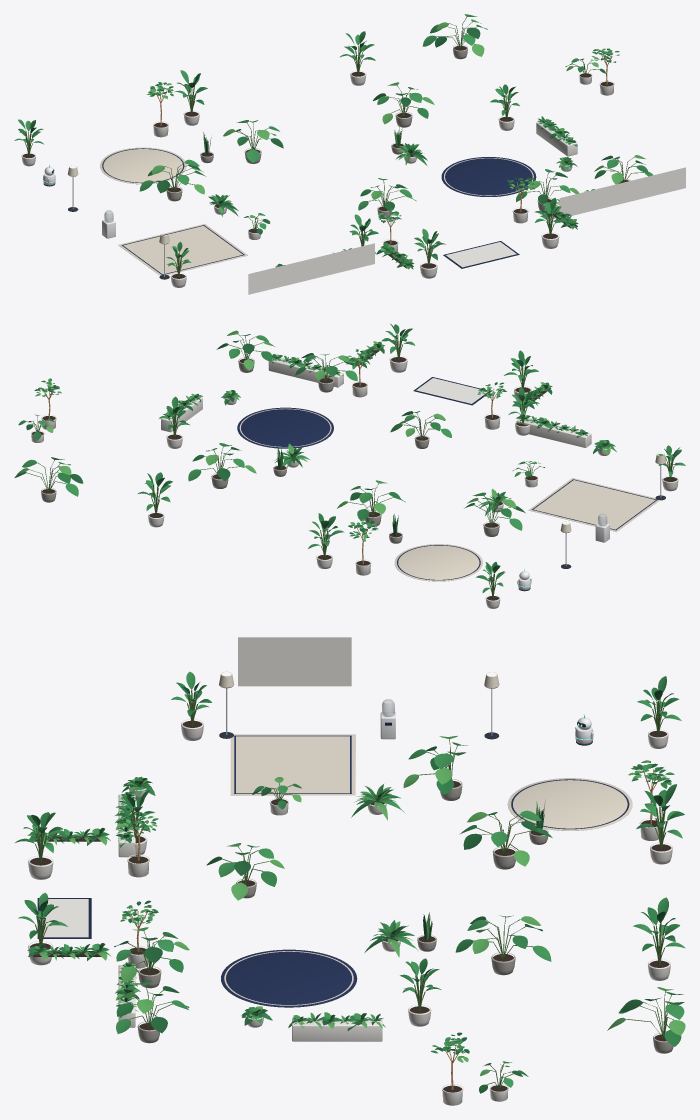
The model's file is office-decor-v01.glb.
3 renders of one model, top to bottom at view 1: azimuth 30°, elevation 25°; view 2: azimuth 150°, elevation 25°; view 3: azimuth 270°, elevation 25°, orthographic. The views are drawn at different scales.
Visible parts, largest first — view 1: Break_Rug_Mesh, Reporting_Rug_Mesh, SIGN_Quote_FrontL, SIGN_Quote_FrontR, Research_Rug_Mesh, Dev_Plant_1_Mesh, Break_Plant_1_Mesh, Command_Plant_Front_R_Mesh, SIGN_WelcomeMat, Ops_Planter_Mesh, Command_Plant_Front_L_Mesh, Workers_Plant_2_Mesh (+12 smaller); view 2: Break_Rug_Mesh, Reporting_Rug_Mesh, Research_Rug_Mesh, Front_Planter_L_Mesh, Front_Planter_R_Mesh, Dev_Plant_1_Mesh, SIGN_WelcomeMat, Command_Plant_Front_R_Mesh, Command_Plant_Front_L_Mesh, Break_Plant_1_Mesh, Front_Plant_R_Mesh, Ops_Plant_3_Mesh (+14 smaller); view 3: Break_Rug_Mesh, Reporting_Rug_Mesh, SIGN_Quote_Break, Research_Rug_Mesh, Ops_Planter_Mesh, Command_Plant_Front_R_Mesh, Command_Plant_Front_L_Mesh, Front_Plant_R_Mesh, Dev_Plant_1_Mesh, Ops_Plant_3_Mesh, SIGN_WelcomeMat, Workers_Plant_2_Mesh (+21 smaller).
Part boxes in pixels (x1,y1,x2,y2): Break_Rug_Mesh: [118, 223, 247, 275]; Reporting_Rug_Mesh: [441, 157, 536, 196]; SIGN_Quote_FrontL: [248, 243, 374, 294]; SIGN_Quote_FrontR: [559, 167, 685, 216]; Research_Rug_Mesh: [100, 147, 186, 184]; Dev_Plant_1_Mesh: [422, 14, 487, 59]; Break_Plant_1_Mesh: [139, 159, 205, 201]; Command_Plant_Front_R_Mesh: [373, 82, 434, 127]; SIGN_WelcomeMat: [446, 242, 516, 267]; Ops_Planter_Mesh: [536, 116, 577, 156]; Command_Plant_Front_L_Mesh: [223, 120, 283, 163]; Workers_Plant_2_Mesh: [358, 178, 416, 219]; Break_Rug_Mesh: [528, 478, 660, 531]; Reporting_Rug_Mesh: [237, 407, 333, 448]; Research_Rug_Mesh: [394, 544, 482, 581]; Front_Planter_L_Mesh: [516, 415, 591, 447]; Front_Planter_R_Mesh: [268, 354, 343, 387]; Dev_Plant_1_Mesh: [14, 457, 83, 502]; SIGN_WelcomeMat: [416, 378, 488, 403]; Command_Plant_Front_R_Mesh: [188, 443, 256, 488]; Command_Plant_Front_L_Mesh: [337, 480, 405, 526]; Break_Plant_1_Mesh: [464, 492, 525, 536]; Front_Plant_R_Mesh: [295, 353, 357, 392]; Ops_Plant_3_Mesh: [216, 330, 274, 372]; Break_Rug_Mesh: [230, 734, 355, 795]; Reporting_Rug_Mesh: [221, 949, 357, 1007]; SIGN_Quote_Break: [238, 637, 351, 686]; Research_Rug_Mesh: [507, 778, 632, 830]; Ops_Planter_Mesh: [288, 1012, 385, 1041]; Command_Plant_Front_R_Mesh: [455, 915, 551, 975]; Command_Plant_Front_L_Mesh: [459, 810, 552, 869]; Front_Plant_R_Mesh: [114, 927, 189, 988]; Dev_Plant_1_Mesh: [607, 987, 685, 1053]; Ops_Plant_3_Mesh: [116, 980, 189, 1043]; SIGN_WelcomeMat: [42, 899, 88, 937]; Workers_Plant_2_Mesh: [206, 843, 284, 900].
Size of the model in its own units: 15.85 by 1.77 by 11.83.
